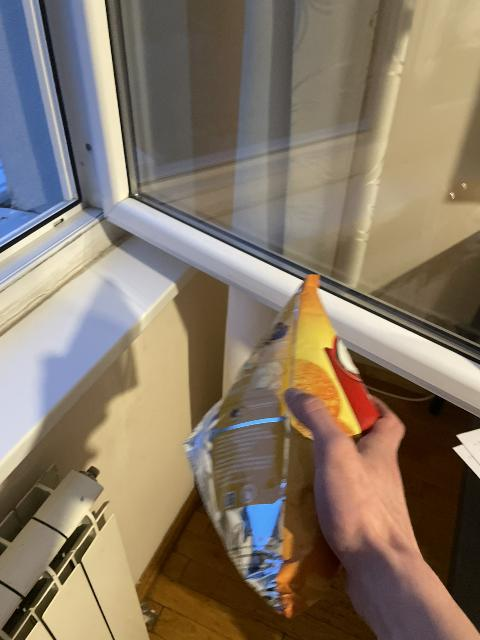Chio Cascaval 125g: (185, 277, 374, 619)
